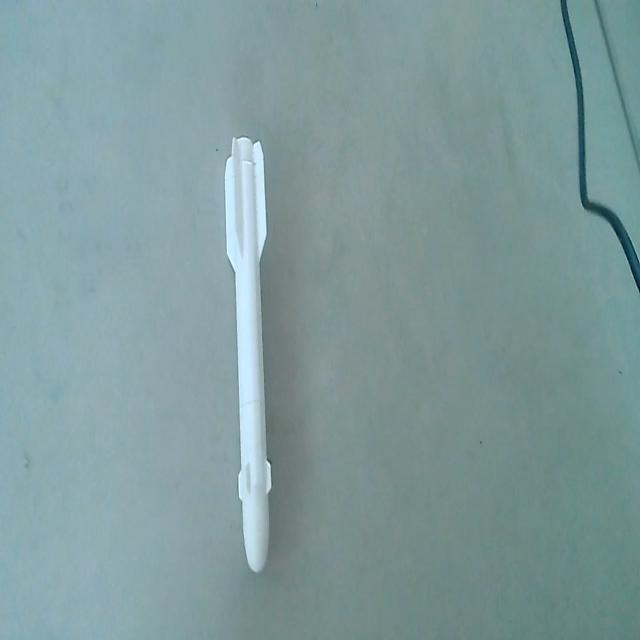Rocket: (221, 134, 276, 578)
